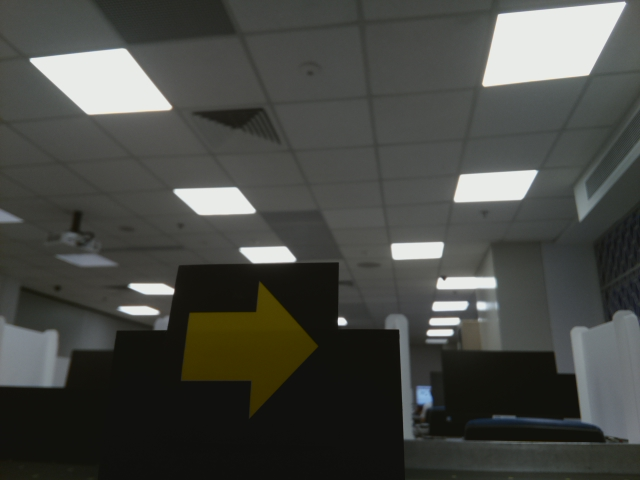right: (184, 269, 321, 420)
